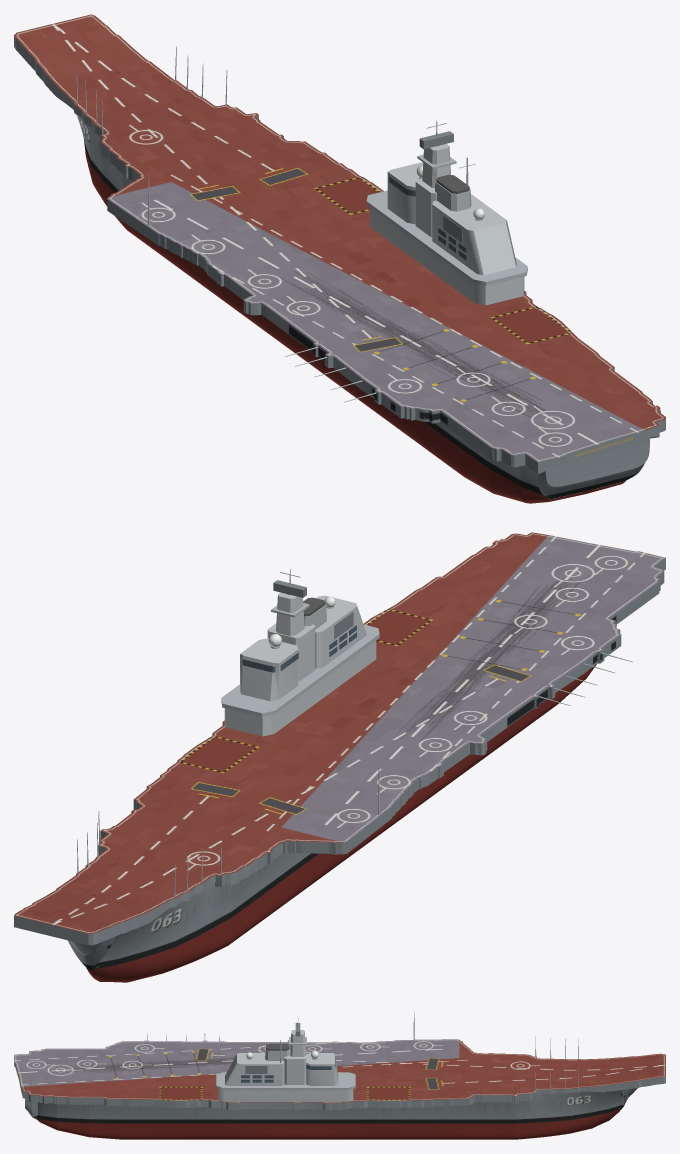
The model's file is carrier.glb.
3 views of the same model, one above another, from view 1: azimuth 30°, elevation 25°; view 2: azimuth 150°, elevation 25°; view 3: azimuth 270°, elevation 25° (orthographic). The views are drawn at different scales.
Visible parts, largest first — view 1: flight_deck, hull, deck_edge_sponsons, aft_block, island_base, island_gallery, bridge_block, mid_block, tower; view 2: flight_deck, hull, deck_edge_sponsons, island_base, bridge_block, island_gallery, aft_block, mid_block, tower; view 3: flight_deck, hull, deck_edge_sponsons, island_base, aft_block, island_gallery, bridge_block, mid_block, tower, funnel.
Part boxes in pixels (left/top/right/bottom): flight_deck: left=14, top=14, right=665, bottom=462; hull: left=76, top=114, right=649, bottom=503; deck_edge_sponsons: left=14, top=35, right=665, bottom=473; aft_block: left=432, top=194, right=516, bottom=275; island_base: left=370, top=208, right=524, bottom=305; island_gallery: left=366, top=190, right=527, bottom=285; bridge_block: left=387, top=162, right=423, bottom=224; mid_block: left=415, top=178, right=436, bottom=237; tower: left=422, top=144, right=450, bottom=187; flight_deck: left=14, top=532, right=665, bottom=933; hull: left=68, top=625, right=616, bottom=982; deck_edge_sponsons: left=14, top=543, right=665, bottom=945; island_base: left=224, top=640, right=376, bottom=736; bridge_block: left=240, top=638, right=297, bottom=701; island_gallery: left=221, top=624, right=379, bottom=717; aft_block: left=315, top=595, right=366, bottom=668; mid_block: left=267, top=623, right=315, bottom=681; tower: left=276, top=592, right=304, bottom=636; flight_deck: left=14, top=1039, right=665, bottom=1103; hull: left=25, top=1088, right=637, bottom=1139; deck_edge_sponsons: left=14, top=1062, right=665, bottom=1110; island_base: left=218, top=1089, right=353, bottom=1101; aft_block: left=225, top=1053, right=284, bottom=1085; island_gallery: left=216, top=1072, right=355, bottom=1090; bridge_block: left=306, top=1053, right=338, bottom=1085; mid_block: left=284, top=1049, right=306, bottom=1084; tower: left=290, top=1030, right=305, bottom=1056; funnel: left=265, top=1046, right=289, bottom=1060.
Bounding box in the file's own units: 79.47 × 66.86 × 304.
8 materials, 2 textured.
